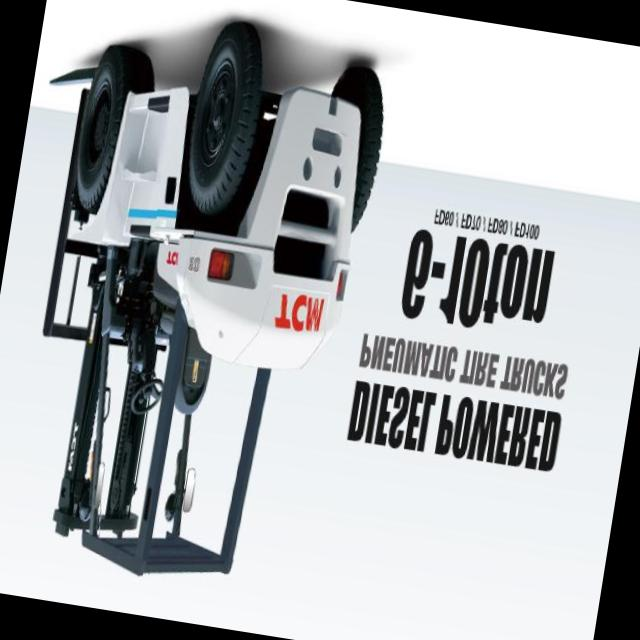forklift: (0, 0, 399, 631)
